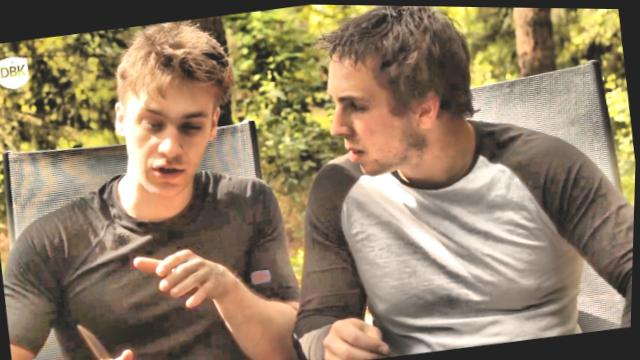knife: (72, 306, 151, 360)
